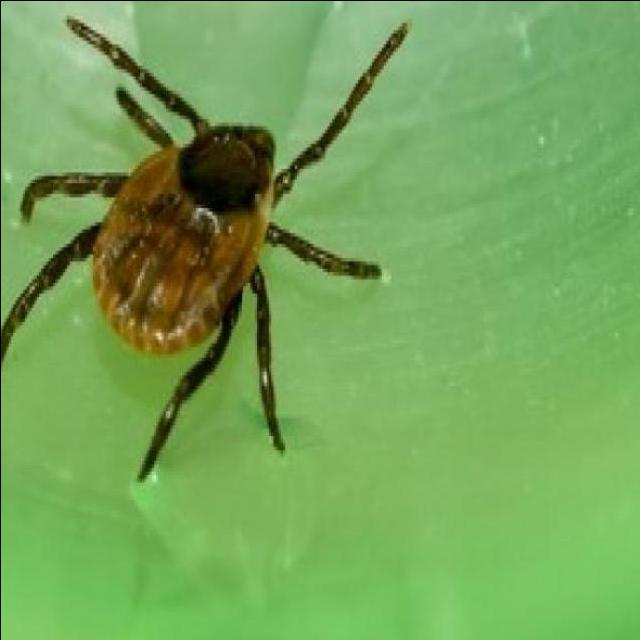Rhipicephalus Sanguineus-F: (0, 15, 409, 478)
